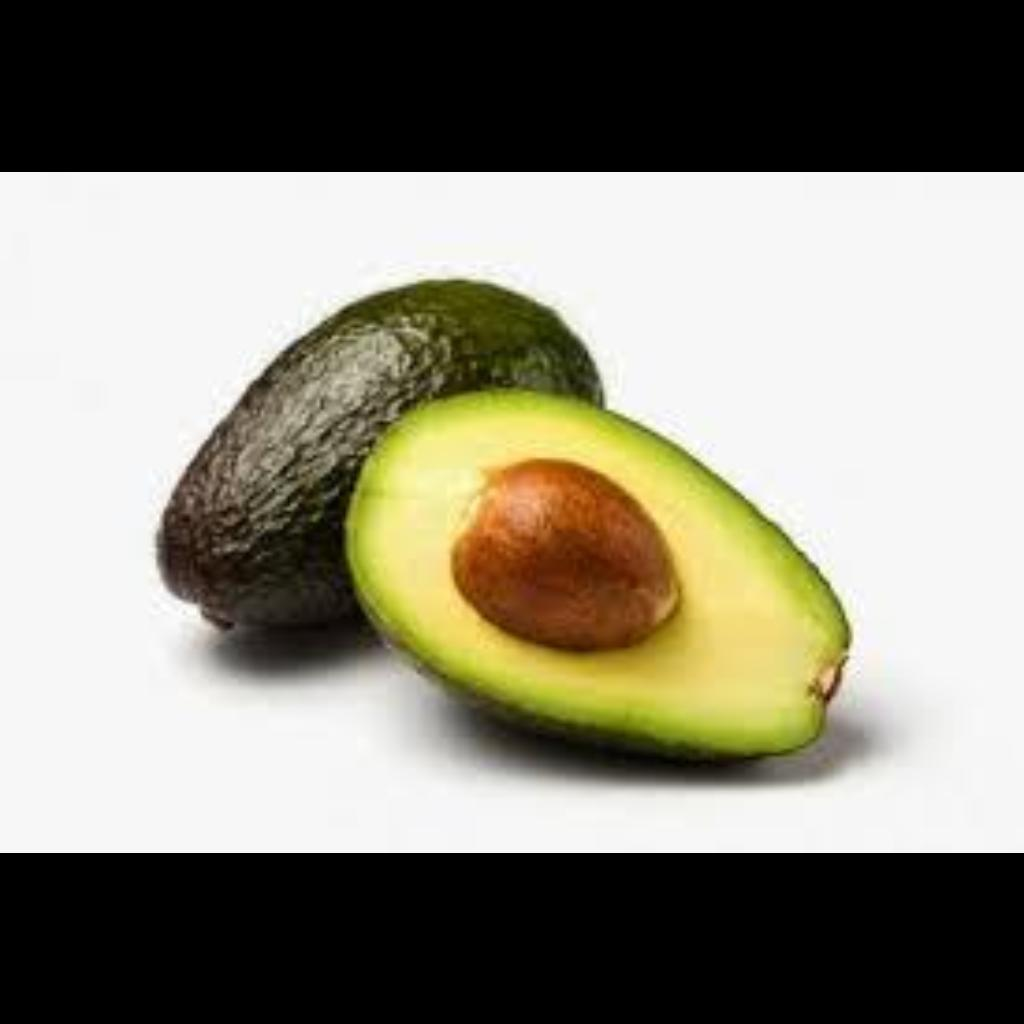Anthracnose: (226, 314, 570, 382)
